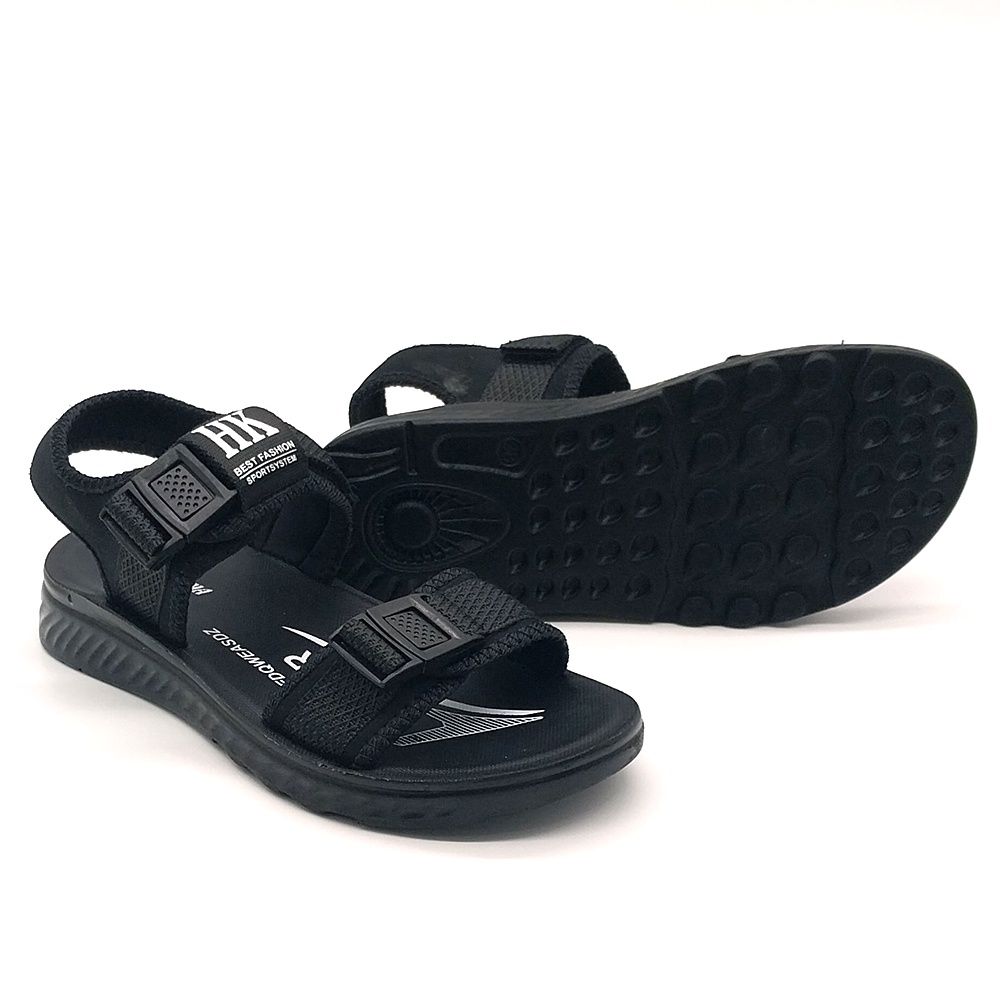sandals: (28, 383, 645, 821), (317, 331, 979, 630)
